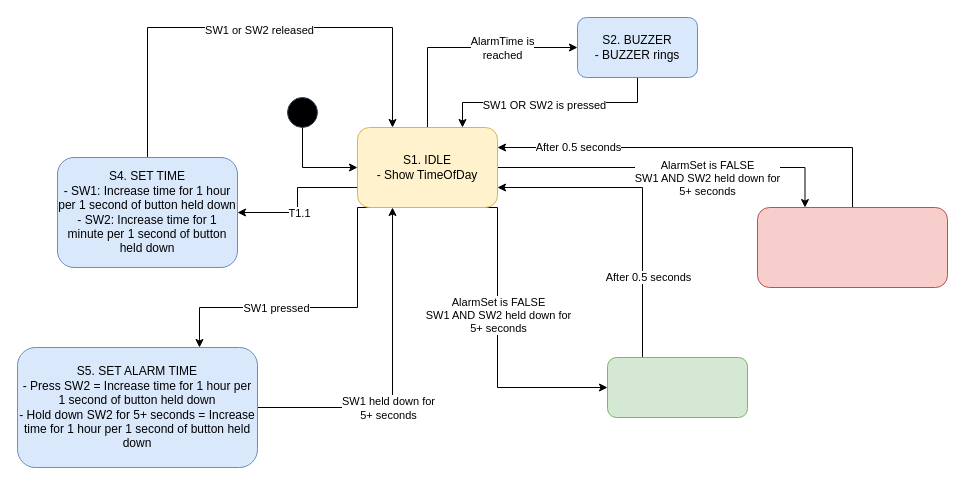
The diagram is 965 pixels wide and 485 high, and some of its shapes have lost their labels. The centre of each missing label's shape, as x and y in pixels:
"S3. ALARM SET - Show TimeOfDay - AlarmSet is TRUE - ArmedLED is ON" goes at point (677, 387).
"S6. ALARM NOT SET - Show TimeOfDay - AlarmSet is FALSE - ArmedLED is OFF" goes at point (852, 247).
